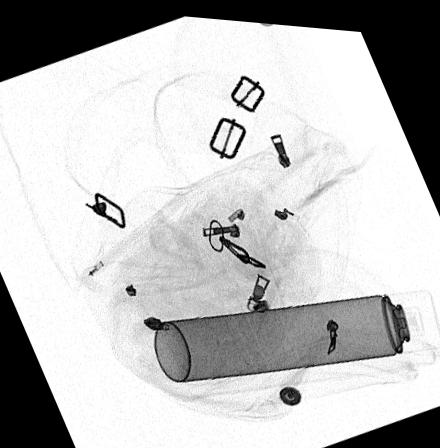Sprayer: (154, 281, 440, 377)
